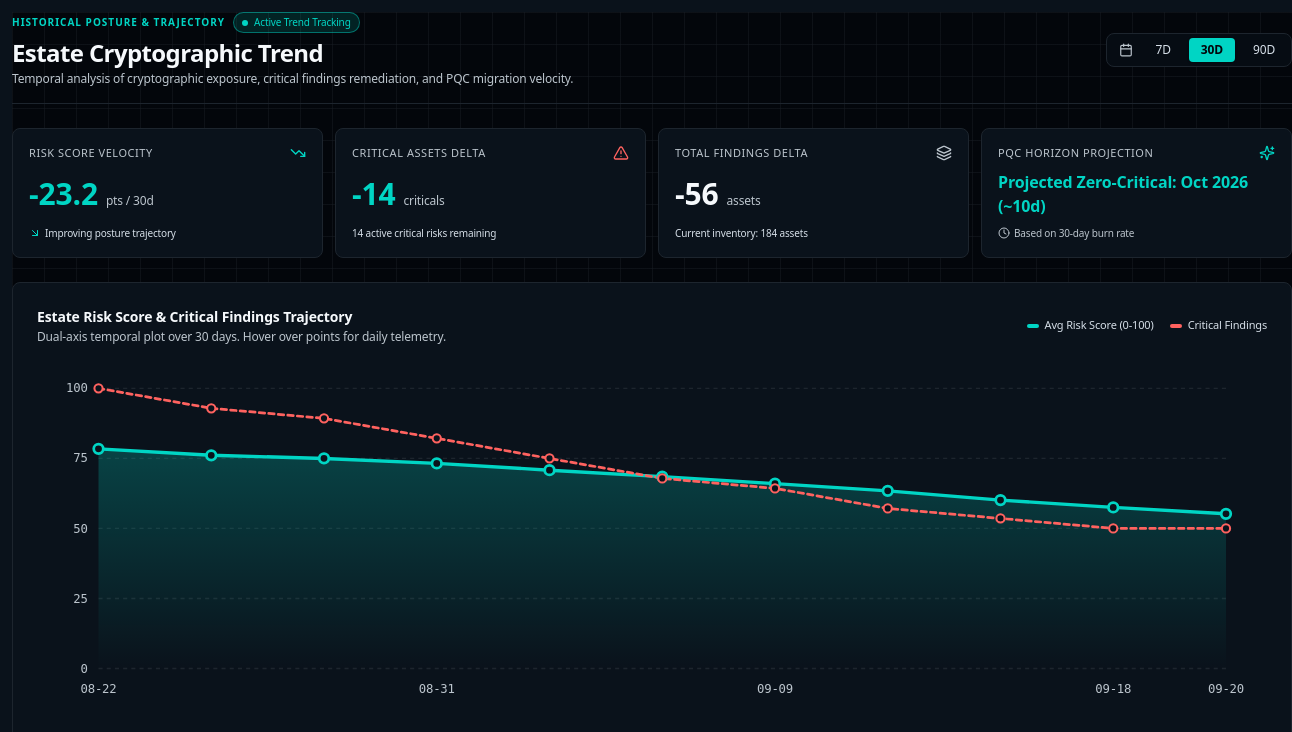
Scenario: Screen 12: Estate Cryptographic Trend › allows switching time windows (7D, 30D, 90D)
The image size is (1292, 732).
Click the button named "Show 7 days trend" at x=1163, y=50, box [1144, 38, 1183, 62]
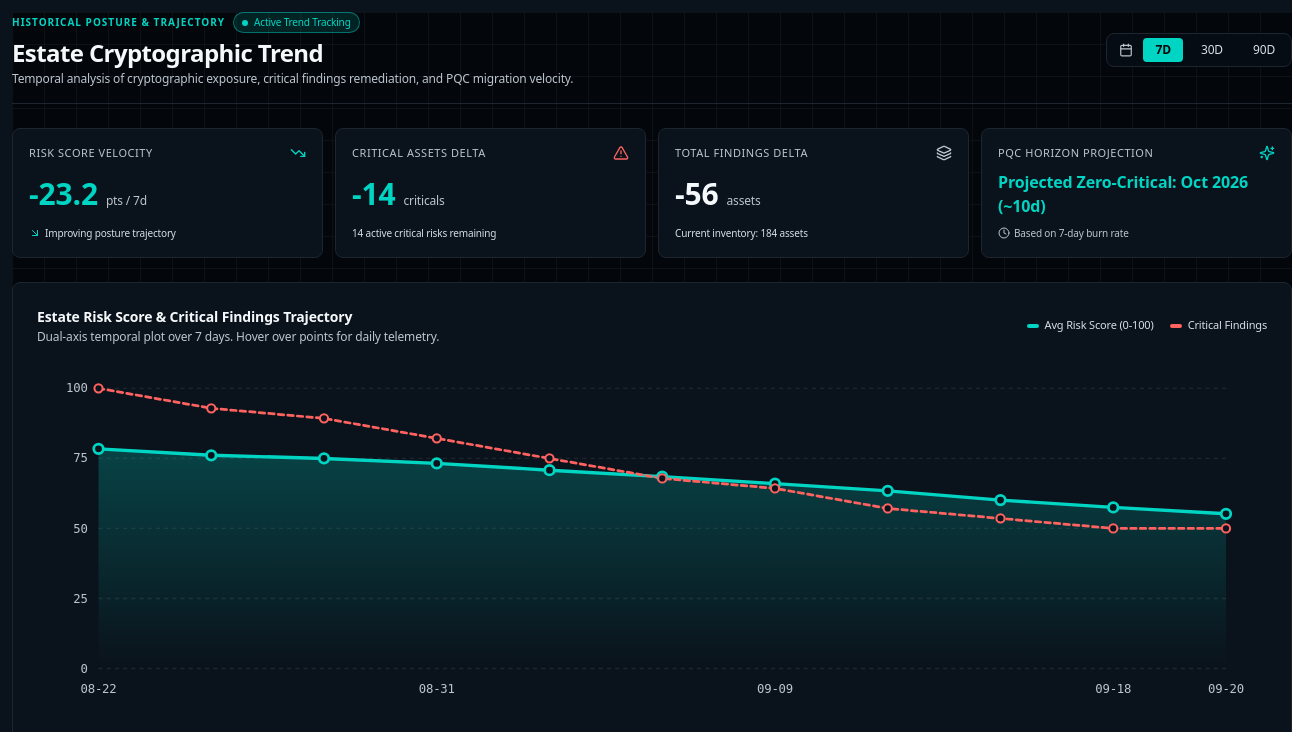
Expected: the button named "Show 7 days trend" has class "font-bold", [1144, 38, 1183, 62]
